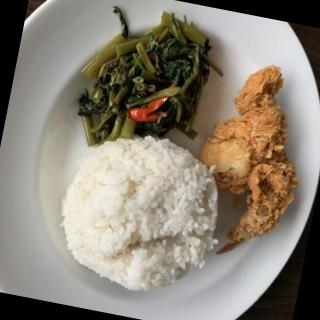Nasi: (50, 122, 234, 305)
